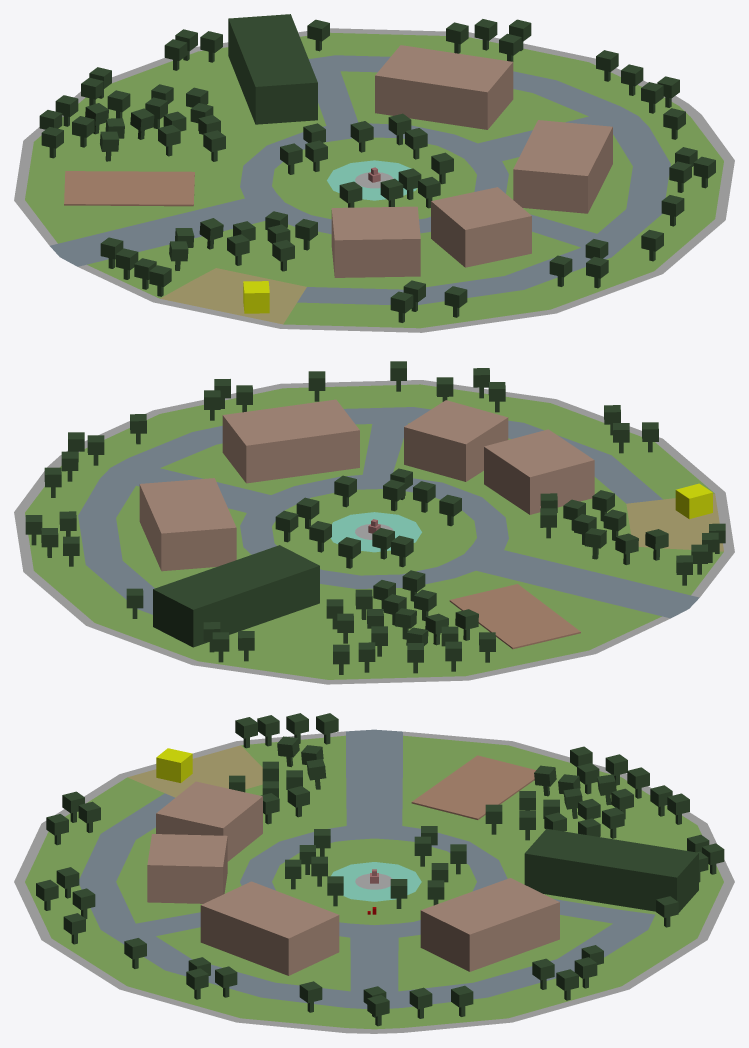
File: blocking_fbx.fbx
3 views of the same model, one above another, from view 1: azimuth 30°, elevation 25°; view 2: azimuth 150°, elevation 25°; view 3: azimuth 270°, elevation 25° (orthographic).
Visible parts, largest first — view 1: blocking:pCube2, blocking:pCube4, blocking:pCube68, blocking:pCube3, blocking:pCube5, blocking:pCube6, blocking:pCube7, pCube6; view 2: blocking:pCube2, blocking:pCube68, blocking:pCube3, blocking:pCube4, blocking:pCube6, blocking:pCube5, blocking:pCube7, pCube6; view 3: blocking:pCube2, blocking:pCube68, blocking:pCube3, blocking:pCube4, blocking:pCube5, blocking:pCube6, blocking:pCube7, pCube6.
Boxes of the visible parts, left/top/right/bottom form: blocking:pCube2: left=14, top=28, right=734, bottom=332; blocking:pCube4: left=375, top=45, right=513, bottom=129; blocking:pCube68: left=228, top=14, right=317, bottom=124; blocking:pCube3: left=513, top=120, right=612, bottom=213; blocking:pCube5: left=431, top=187, right=531, bottom=267; blocking:pCube6: left=331, top=206, right=420, bottom=277; blocking:pCube7: left=64, top=171, right=194, bottom=206; pCube6: left=243, top=281, right=269, bottom=313; blocking:pCube2: left=14, top=380, right=734, bottom=684; blocking:pCube68: left=153, top=545, right=319, bottom=647; blocking:pCube3: left=222, top=399, right=359, bottom=483; blocking:pCube4: left=139, top=478, right=236, bottom=571; blocking:pCube6: left=484, top=429, right=594, bottom=514; blocking:pCube5: left=404, top=400, right=508, bottom=481; blocking:pCube7: left=449, top=584, right=580, bottom=649; pCube6: left=675, top=483, right=712, bottom=519; blocking:pCube2: left=14, top=729, right=734, bottom=1033; blocking:pCube68: left=524, top=828, right=698, bottom=912; blocking:pCube3: left=200, top=881, right=339, bottom=975; blocking:pCube4: left=420, top=878, right=559, bottom=971; blocking:pCube5: left=147, top=834, right=227, bottom=903; blocking:pCube6: left=156, top=781, right=262, bottom=861; blocking:pCube7: left=411, top=755, right=535, bottom=819; pCube6: left=156, top=748, right=192, bottom=782.
Size of what is drawn, in the model's own units: 158 by 9.39 by 158.
